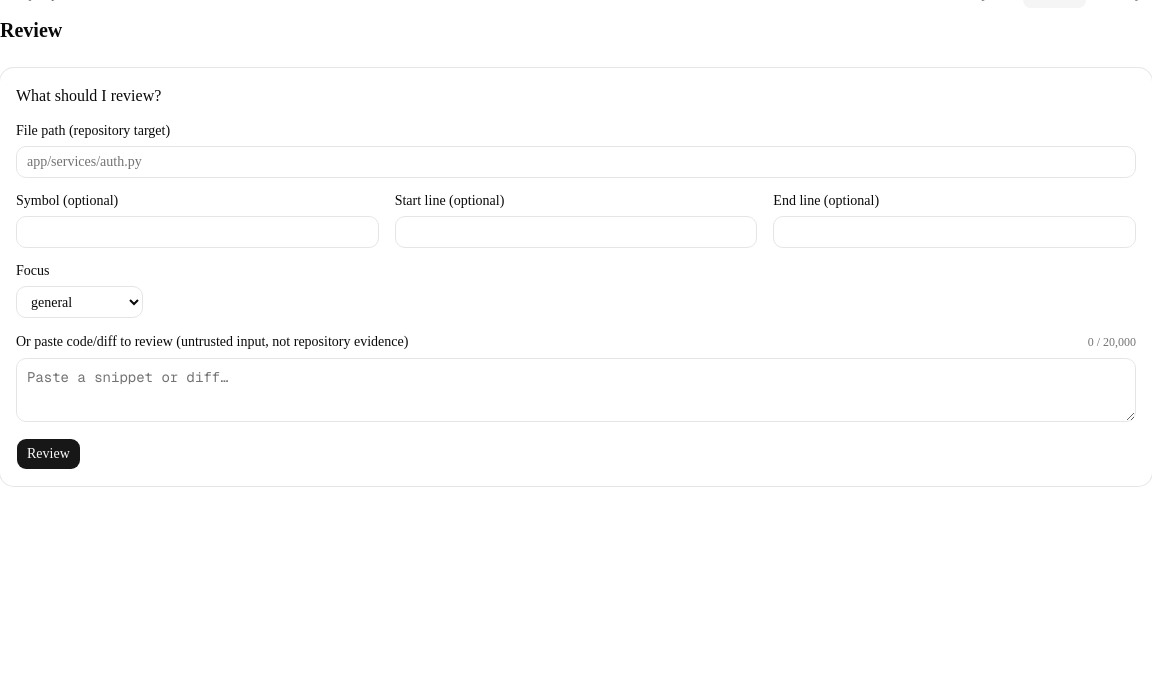
Test: ReviewPage › reviews a repository file target and renders structured findings + summary
In the field labelled "File path (repository target)": (576, 162) [16, 146, 1136, 178], type "svc.py"
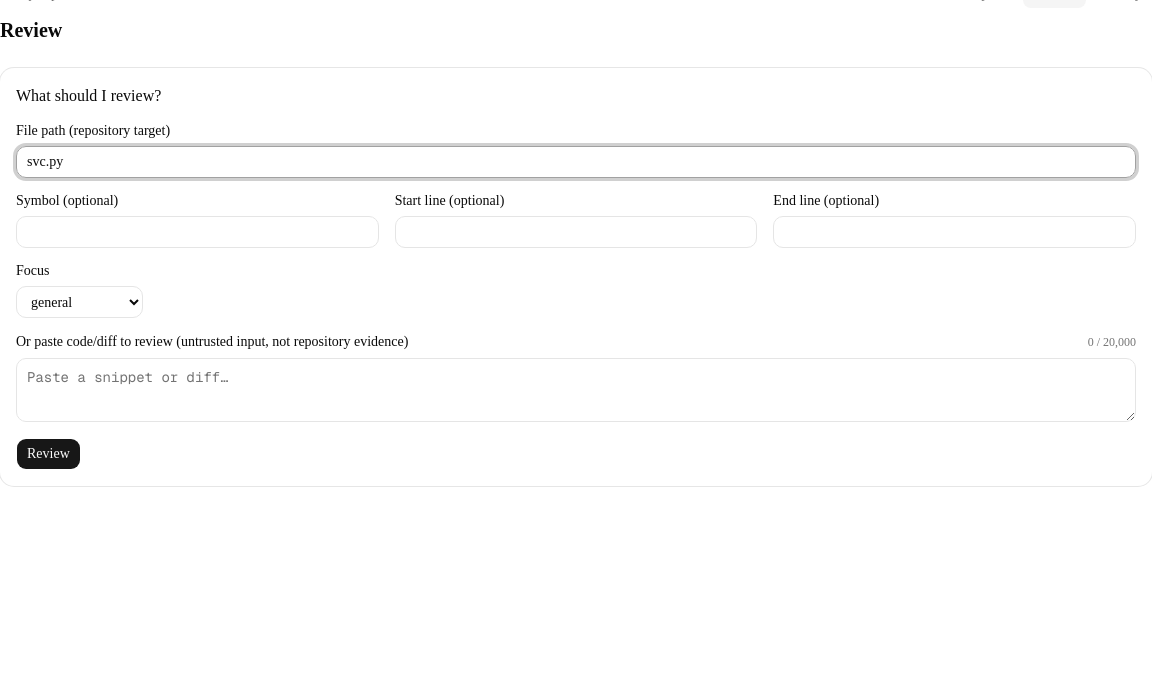
Click the button "Review": (48, 454) [16, 438, 81, 470]
(page scrolled)
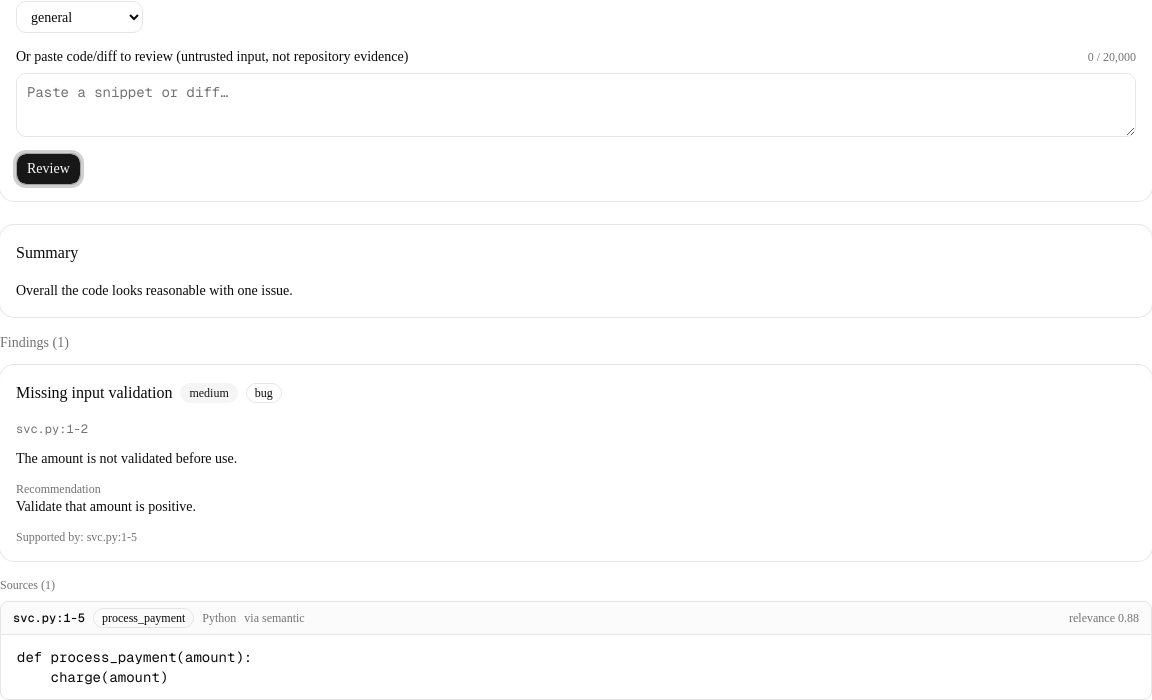
Result: the text "Overall the code looks reasonable with one issue." is shown at [16, 283, 293, 298]
Result: the text "Missing input validation" is shown at [16, 381, 172, 405]
Result: the icon "medium" is shown at [180, 383, 238, 403]
